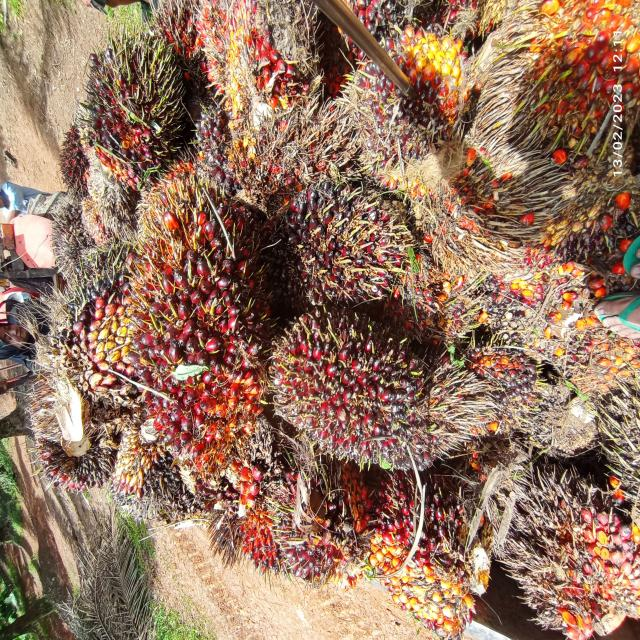fraksi 00: (35, 276, 163, 437), (67, 31, 189, 197)
fraksi 1: (270, 300, 434, 500), (258, 169, 417, 318), (337, 10, 481, 172), (458, 332, 546, 419)
fraksi 3: (114, 150, 273, 468), (499, 466, 640, 640), (222, 442, 364, 601), (350, 482, 489, 640), (192, 0, 318, 140)
fraksi 4: (507, 0, 640, 159)
